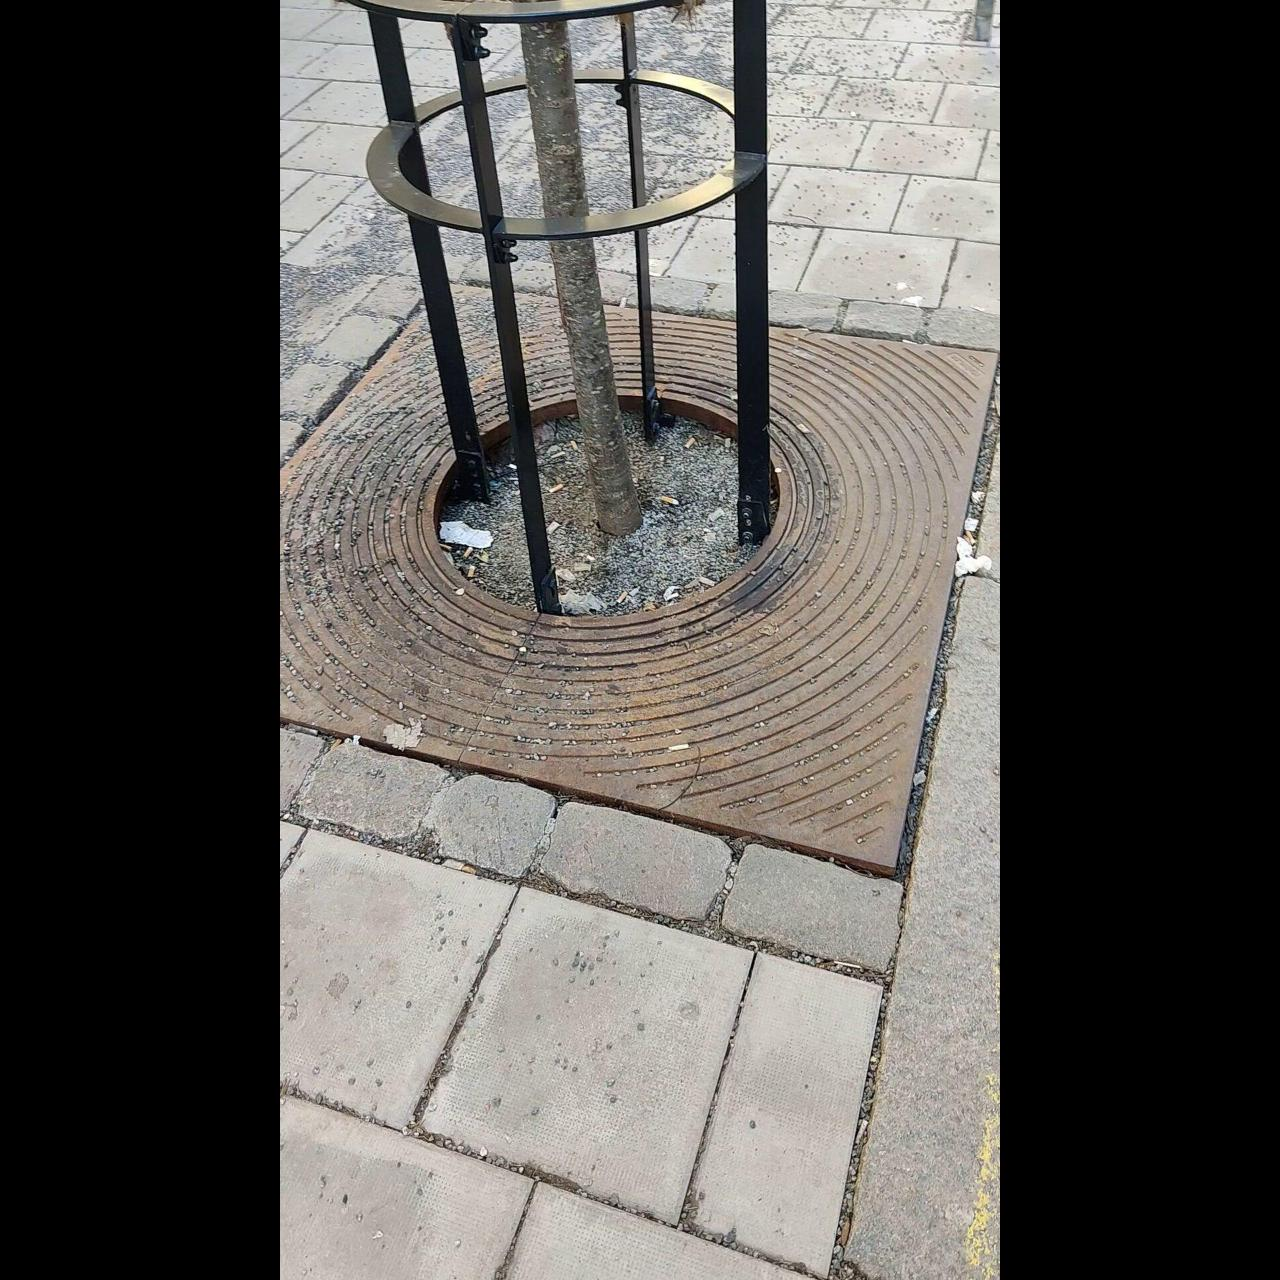cigarettes_butts: (962, 530, 976, 544), (699, 577, 717, 587), (547, 482, 563, 492), (661, 496, 679, 504), (685, 440, 695, 449), (571, 440, 579, 451), (617, 593, 626, 602), (551, 451, 565, 457), (468, 565, 474, 579), (464, 549, 471, 558)
others: (665, 744, 693, 753), (546, 518, 558, 536), (797, 422, 809, 431)
